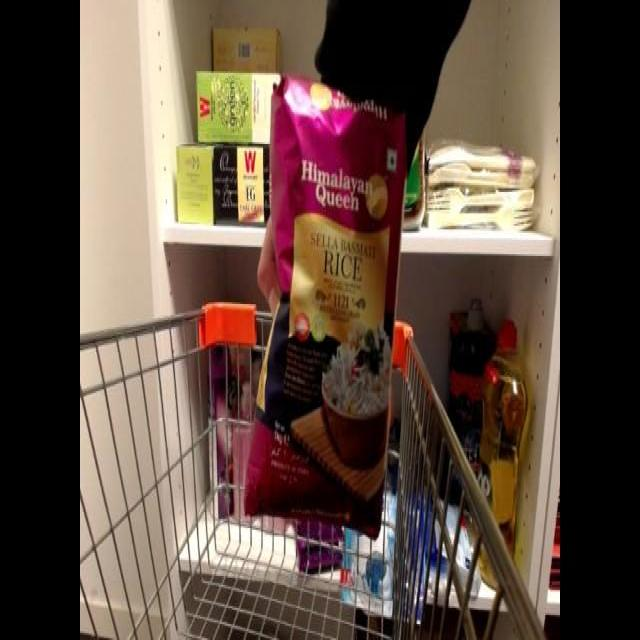Basmati Rice: (238, 65, 402, 531)
